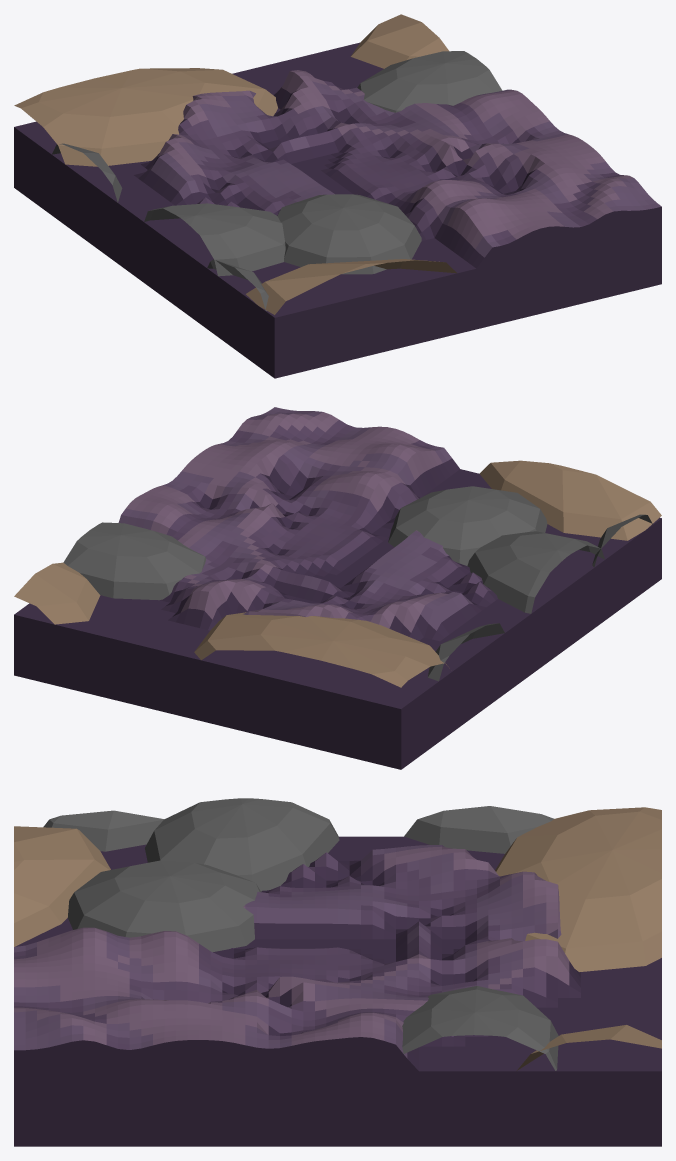
3 renders of one model, top to bottom at view 1: azimuth 30°, elevation 25°; view 2: azimuth 150°, elevation 25°; view 3: azimuth 270°, elevation 25°, orthographic. The views are drawn at different scales.
Visible parts, largest first — view 1: shapesz-t155; view 2: shapesz-t155; view 3: shapesz-t155.
Part boxes in pixels (bbox=[...]): shapesz-t155: bbox=[14, 14, 661, 378]; shapesz-t155: bbox=[14, 407, 661, 769]; shapesz-t155: bbox=[14, 798, 661, 1146].
Bounding box in the file's own units: 2 × 0.4854 × 2.33.
